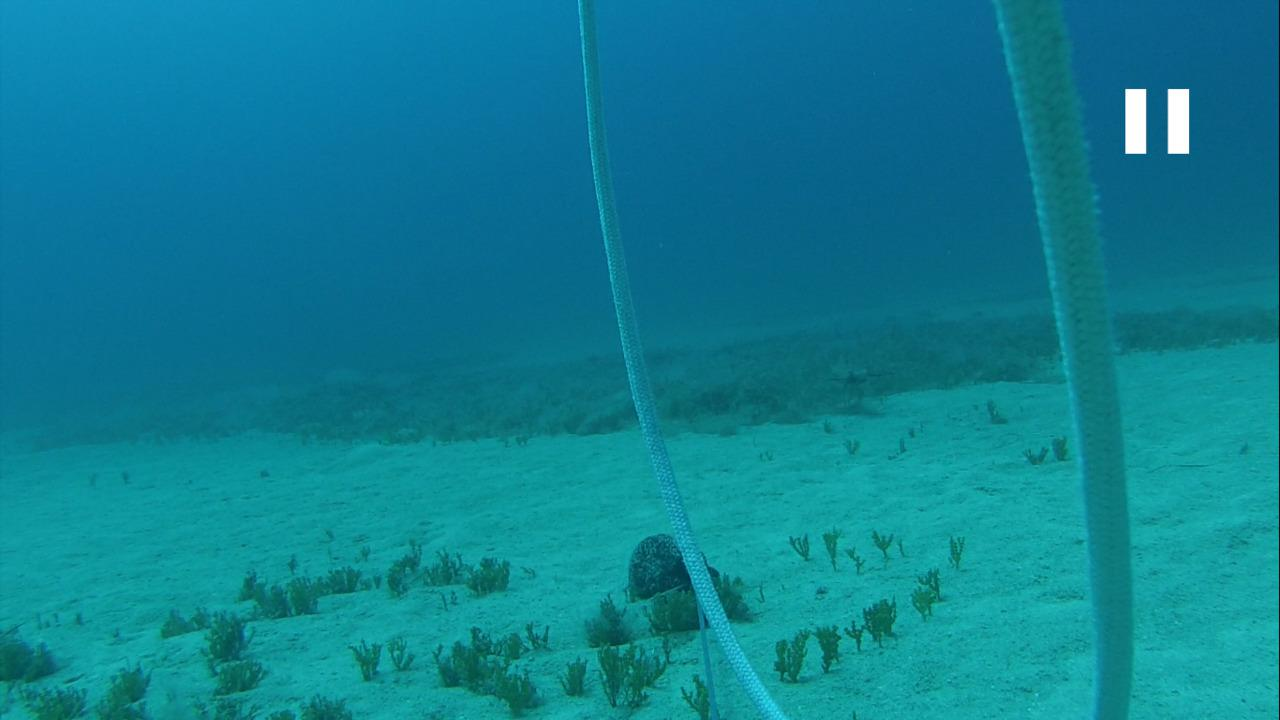dactylopterus: (813, 348, 887, 397)
